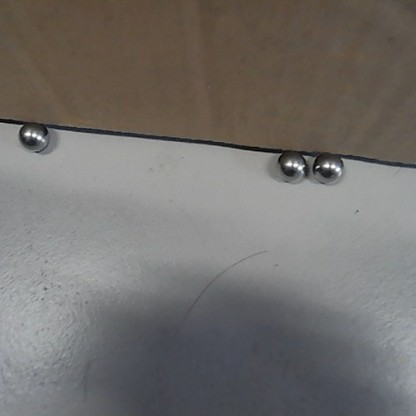ironball: (310, 145, 347, 187), (275, 146, 310, 186), (14, 119, 50, 151)
